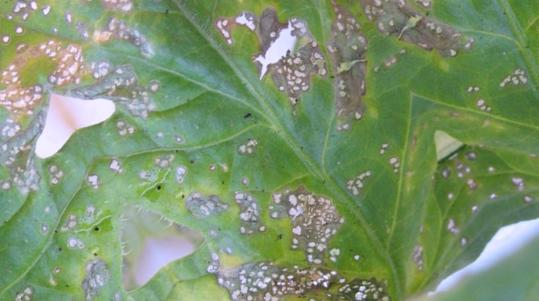Tomato Septoria leaf spot: (0, 0, 536, 301)
